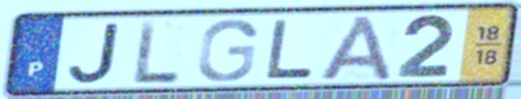2: (394, 11, 459, 81)
A: (317, 13, 396, 81)
G: (194, 17, 260, 84)
J: (66, 20, 124, 86)
L: (264, 18, 319, 82), (133, 18, 182, 86)
